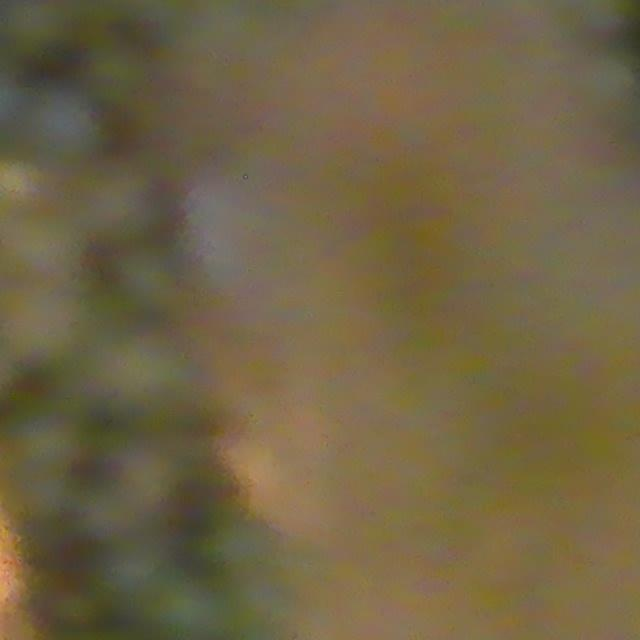SeaGrape: (25, 84, 106, 167)
